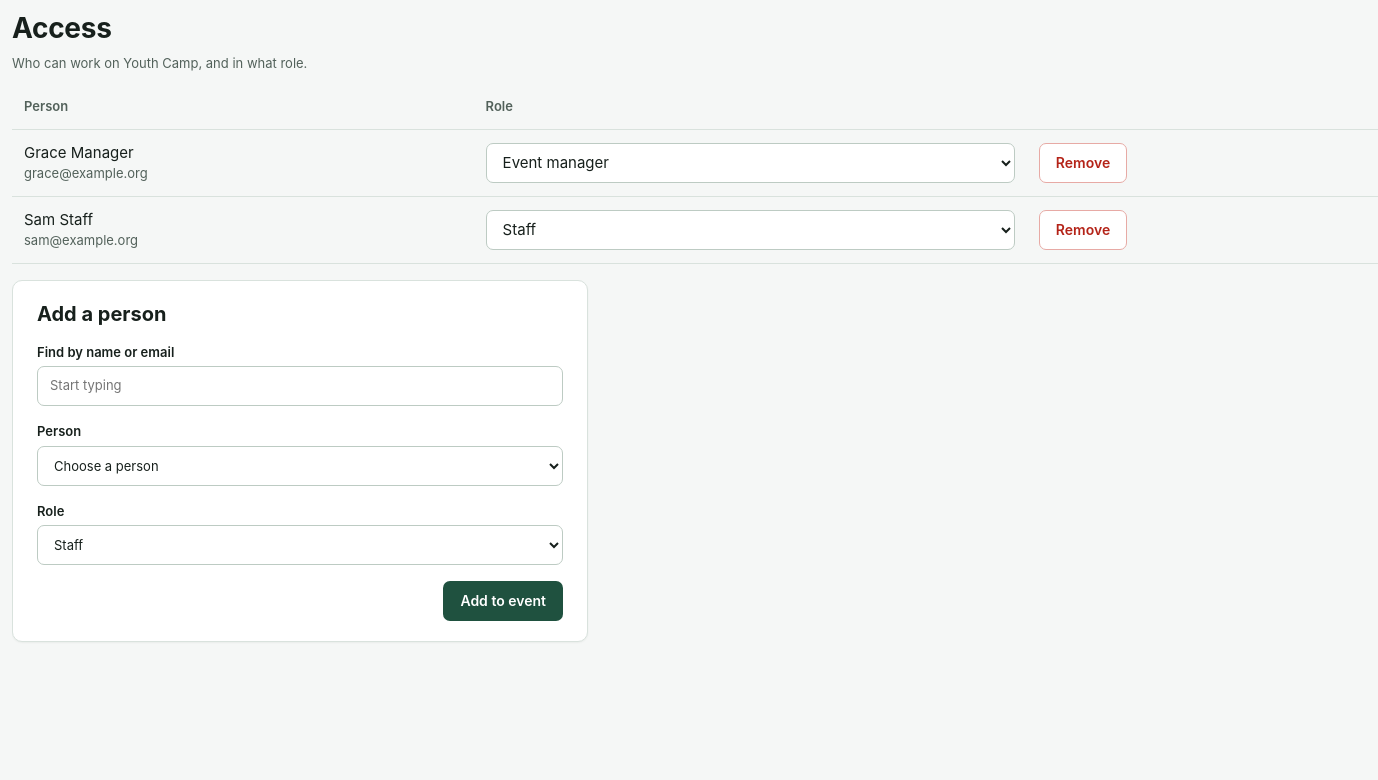
Scenario: event access › changes a role through the server and reports the result
The image size is (1378, 780).
Select "Event manager" in the dropdown named "Role for Sam Staff". click: (750, 230)
box: x1=486 y1=210 x2=1015 y2=250
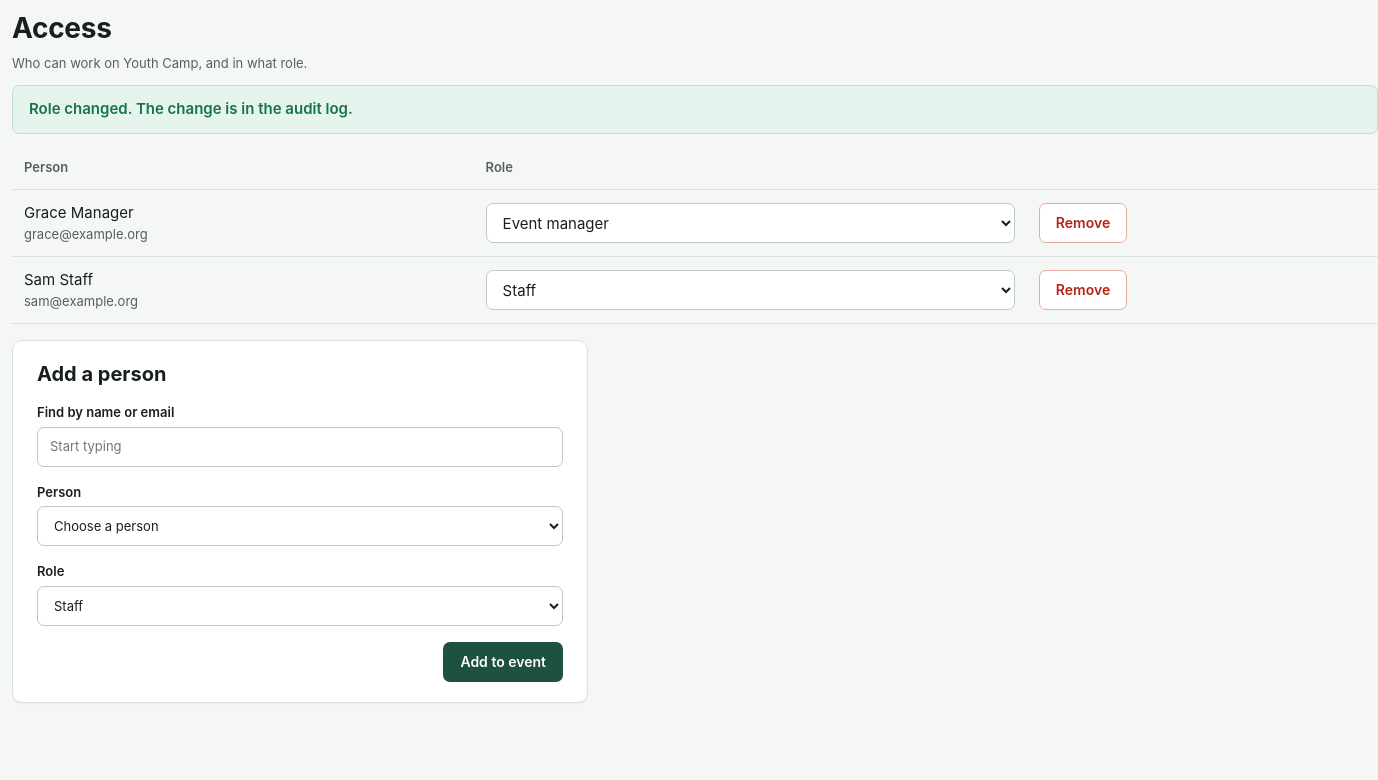
Now the message shows "Role changed.", box x1=29 y1=99 x2=353 y2=118
